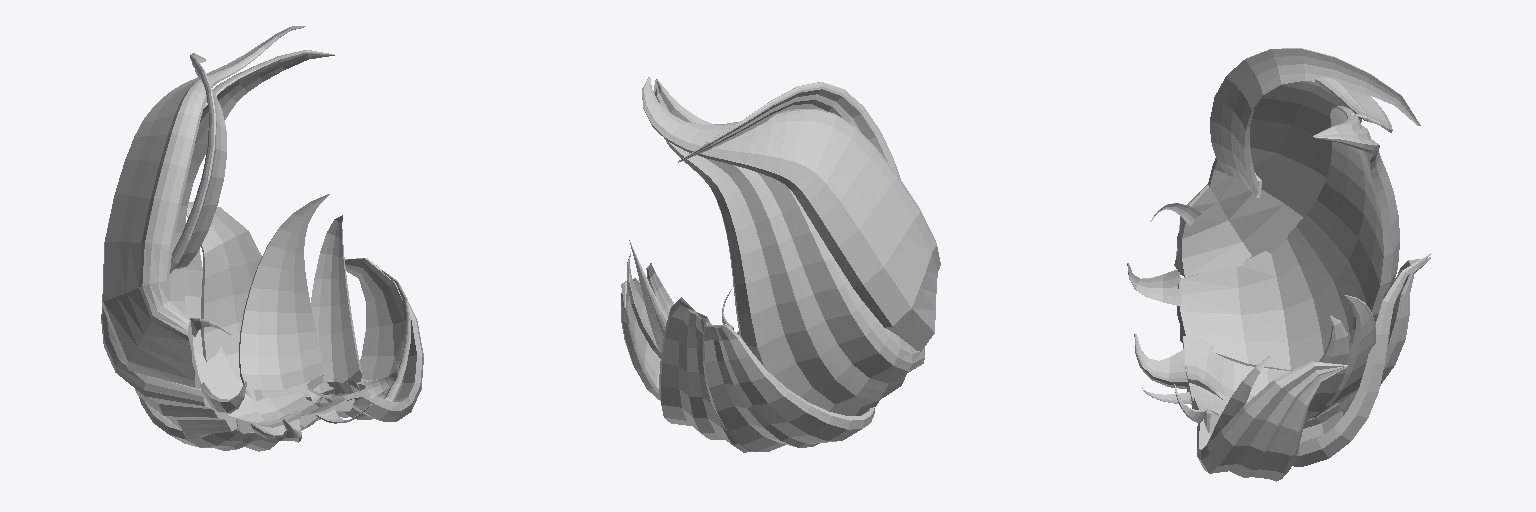
The model's file is hair_run0000.obj.
3 views of the same model, side by side, from view 1: azimuth 30°, elevation 25°; view 2: azimuth 150°, elevation 25°; view 3: azimuth 270°, elevation 25° (orthographic).
Parts seen in each view (by area): view 1: NurbsPath.012; view 2: NurbsPath.012; view 3: NurbsPath.012.
Boxes of the visible parts, x1=… form: NurbsPath.012: x1=101, y1=26, x2=423, y2=451; NurbsPath.012: x1=621, y1=77, x2=940, y2=452; NurbsPath.012: x1=1127, y1=48, x2=1431, y2=481.
Size of the model in its own units: 0.5871 by 0.7097 by 0.5237.